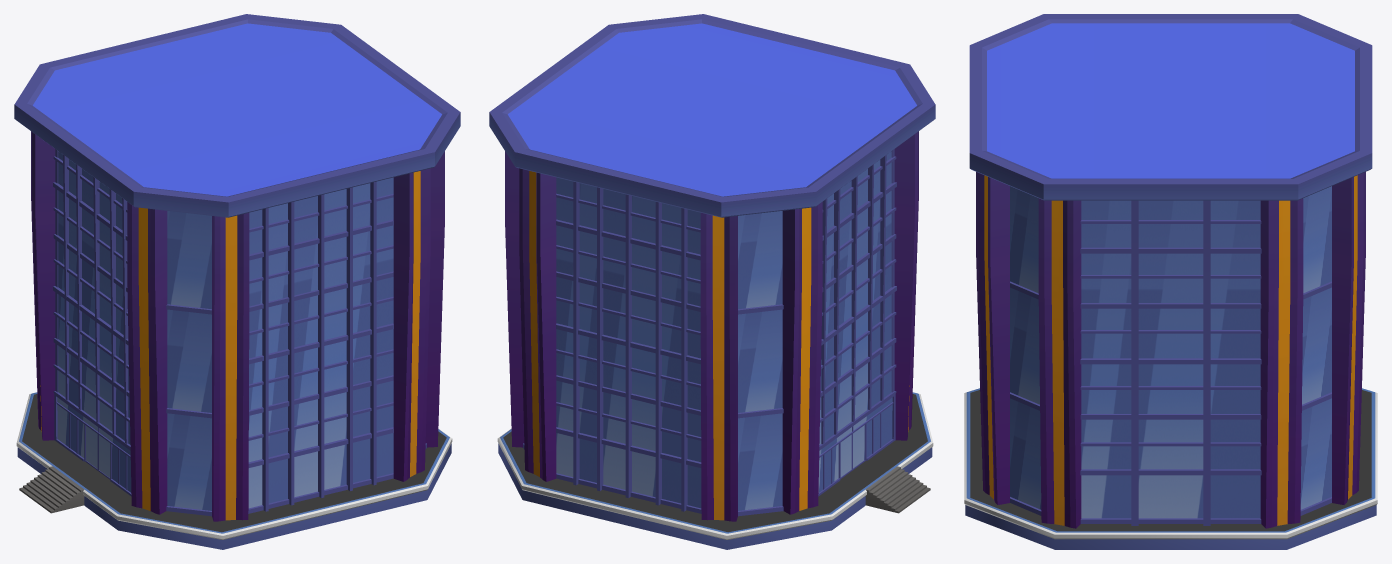
The model's file is Building_7_3_C.fbx.
The picture shows the model from 3 angles, left to right: view 1: azimuth 30°, elevation 25°; view 2: azimuth 150°, elevation 25°; view 3: azimuth 270°, elevation 25°; orthographic projection. The views are drawn at different scales.
Visible parts, largest first — view 1: Building_7_3_C; view 2: Building_7_3_C; view 3: Building_7_3_C.
Part boxes in pixels (bbox=[...]): Building_7_3_C: bbox=[14, 14, 460, 549]; Building_7_3_C: bbox=[489, 14, 935, 549]; Building_7_3_C: bbox=[964, 14, 1377, 549].
Bounding box in the file's own units: 2520 × 2267 × 2311.
